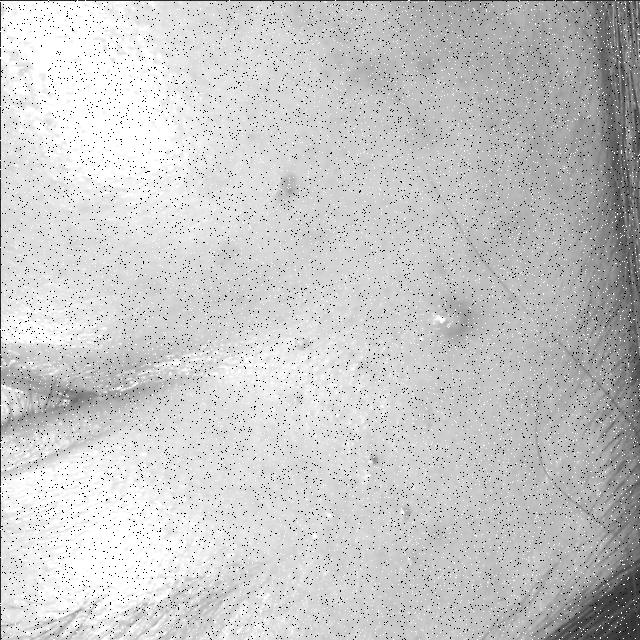nodules: (420, 292, 474, 344)
